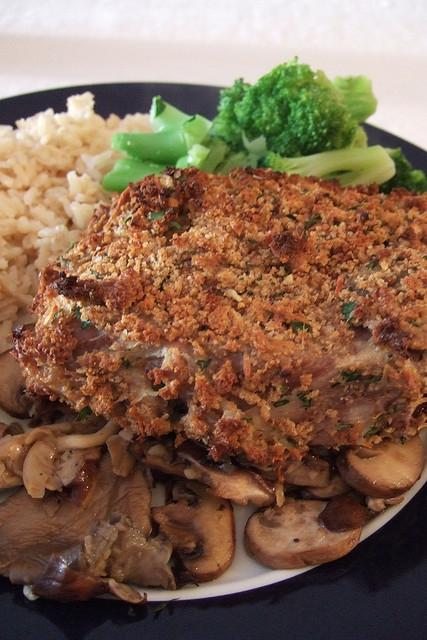broccoli: (202, 56, 376, 158), (262, 144, 397, 188), (112, 126, 188, 167), (102, 157, 176, 195), (410, 170, 426, 194)
mushroom: (151, 479, 236, 583), (244, 496, 363, 570), (178, 453, 286, 507), (336, 434, 426, 498), (54, 447, 106, 512), (0, 346, 42, 419), (22, 441, 64, 498), (318, 495, 380, 533), (281, 454, 330, 488), (300, 472, 356, 501), (107, 424, 137, 478), (365, 492, 405, 512), (0, 422, 25, 438)
